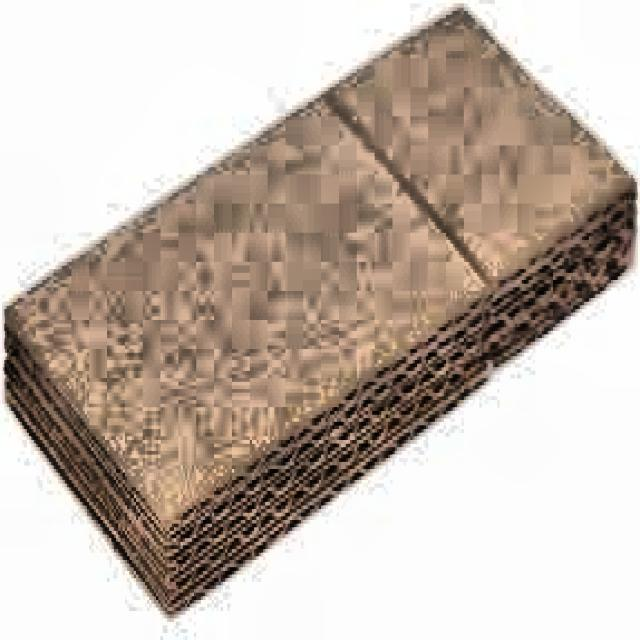cardboard: (0, 0, 638, 618)
